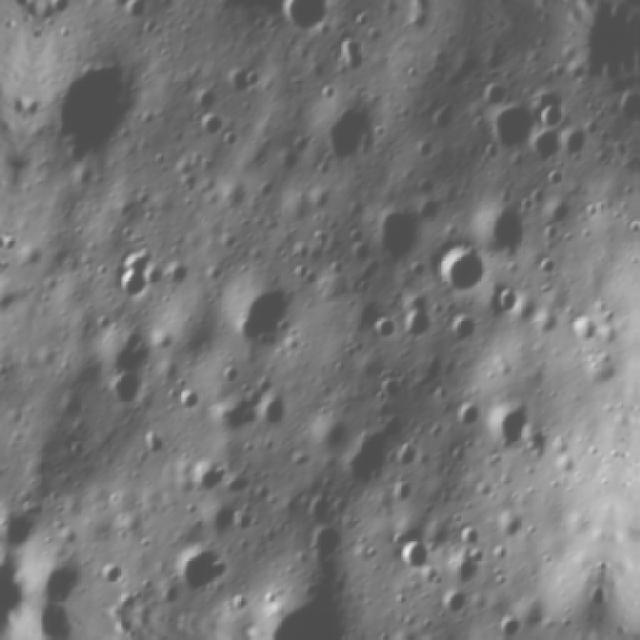crater: (40, 59, 134, 159), (229, 274, 300, 364), (370, 199, 427, 267), (326, 101, 382, 170), (36, 546, 96, 609), (338, 424, 399, 484), (165, 546, 233, 599), (482, 401, 542, 456), (438, 238, 492, 298), (469, 199, 528, 253), (484, 102, 538, 160), (268, 0, 343, 40), (112, 248, 152, 304), (0, 502, 46, 550), (103, 371, 152, 414), (402, 294, 442, 337), (252, 395, 294, 434), (305, 529, 350, 565), (561, 124, 599, 164), (190, 457, 228, 497), (536, 93, 572, 132), (526, 301, 560, 342), (399, 537, 435, 574), (94, 558, 129, 596), (338, 38, 367, 82), (450, 396, 485, 432), (572, 309, 603, 349), (496, 511, 530, 546), (495, 278, 527, 314), (170, 382, 208, 412), (432, 101, 463, 137), (537, 128, 566, 166), (310, 491, 342, 524), (373, 372, 407, 403), (458, 522, 493, 552), (611, 92, 640, 128), (456, 550, 484, 587), (373, 311, 404, 343), (140, 430, 172, 459), (391, 476, 420, 507), (452, 309, 478, 343), (236, 66, 270, 91), (545, 165, 573, 193), (196, 89, 227, 113), (169, 262, 196, 289), (200, 115, 229, 140), (50, 0, 78, 25), (127, 0, 153, 25), (623, 210, 640, 248), (538, 254, 564, 278), (399, 442, 423, 467), (501, 616, 527, 639), (144, 268, 167, 292), (352, 10, 374, 33), (6, 230, 25, 256), (219, 131, 244, 149), (420, 175, 435, 198), (484, 637, 528, 640)
